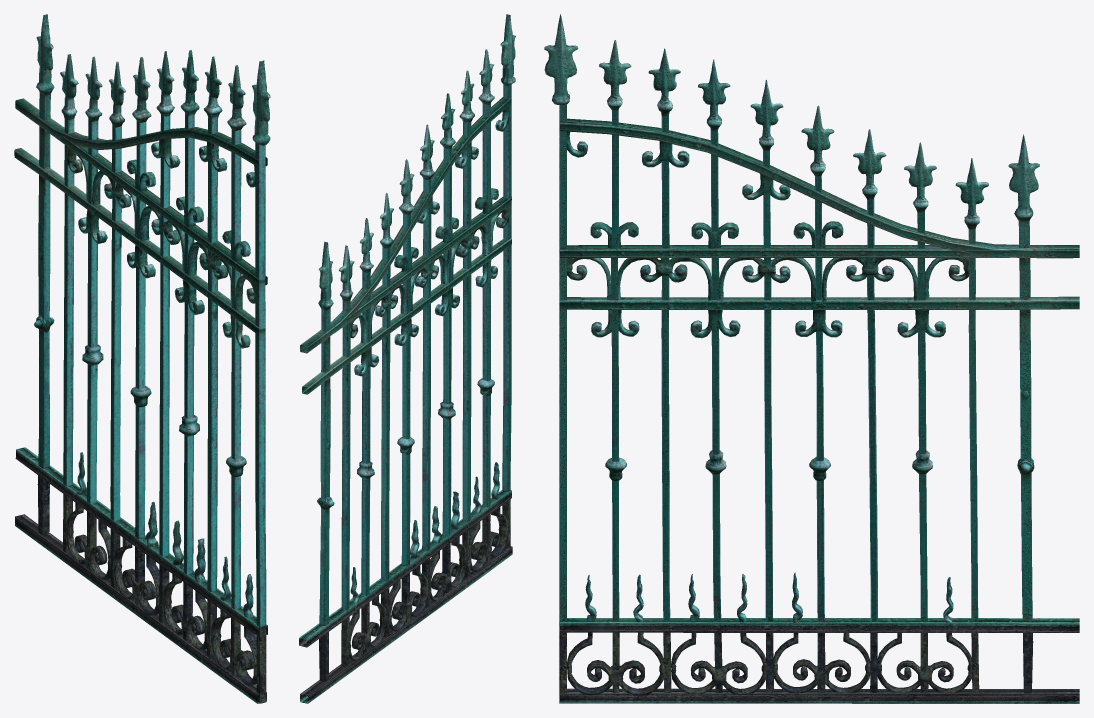
File: sm_OldFence_02_04_Gate.fbx
3 views of the same model, side by side, from view 1: azimuth 30°, elevation 25°; view 2: azimuth 150°, elevation 25°; view 3: azimuth 270°, elevation 25° (orthographic). The views are drawn at different scales.
Visible parts, largest first — view 1: sm_OldFence_02_04_Gate_LOD0; view 2: sm_OldFence_02_04_Gate_LOD0; view 3: sm_OldFence_02_04_Gate_LOD0.
Boxes of the visible parts, box(x1,y1,x2,y2) form: sm_OldFence_02_04_Gate_LOD0: box(14, 14, 270, 703); sm_OldFence_02_04_Gate_LOD0: box(299, 14, 515, 703); sm_OldFence_02_04_Gate_LOD0: box(544, 14, 1079, 703).
Bounding box in the file's own units: 8.33 × 185 × 262.
